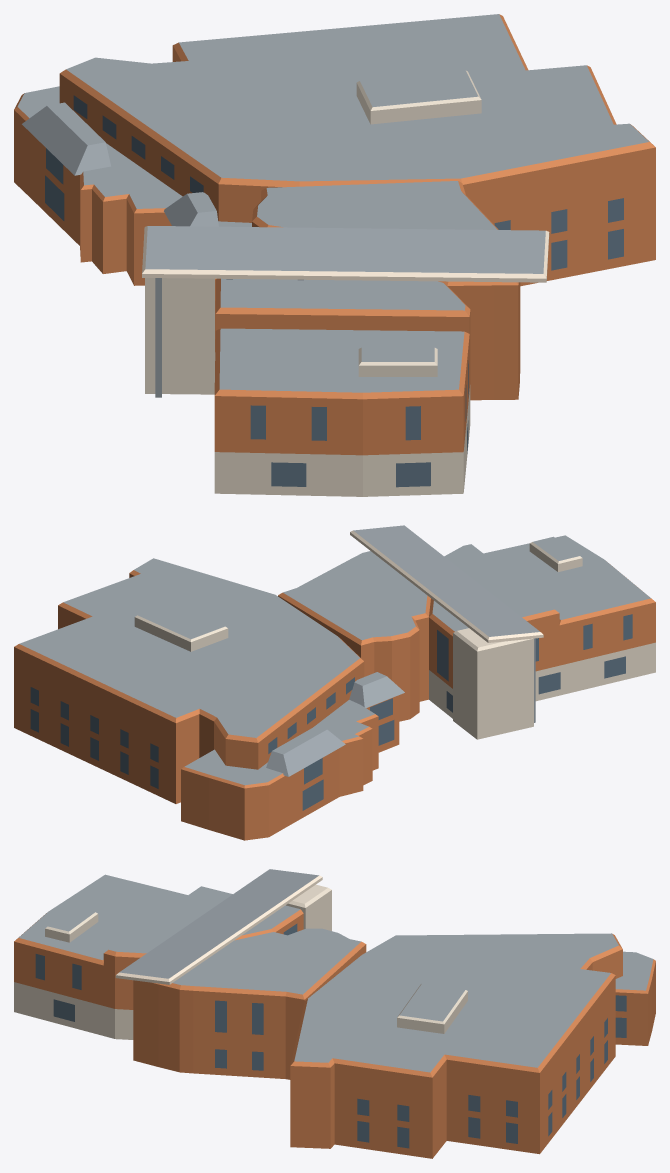
Rendered from usnwc-lodge.glb.
3 renders of one model, top to bottom at view 1: azimuth 30°, elevation 25°; view 2: azimuth 150°, elevation 25°; view 3: azimuth 270°, elevation 25°, orthographic. The views are drawn at different scales.
Visible parts, largest first — view 1: U.S. National Whitewater Center; view 2: U.S. National Whitewater Center; view 3: U.S. National Whitewater Center.
Part boxes in pixels (x1,y1,x2,y2): U.S. National Whitewater Center: [14, 14, 655, 496]; U.S. National Whitewater Center: [14, 525, 655, 840]; U.S. National Whitewater Center: [14, 869, 655, 1158].
Size of the model in its own units: 63.7 by 13.97 by 81.3.
